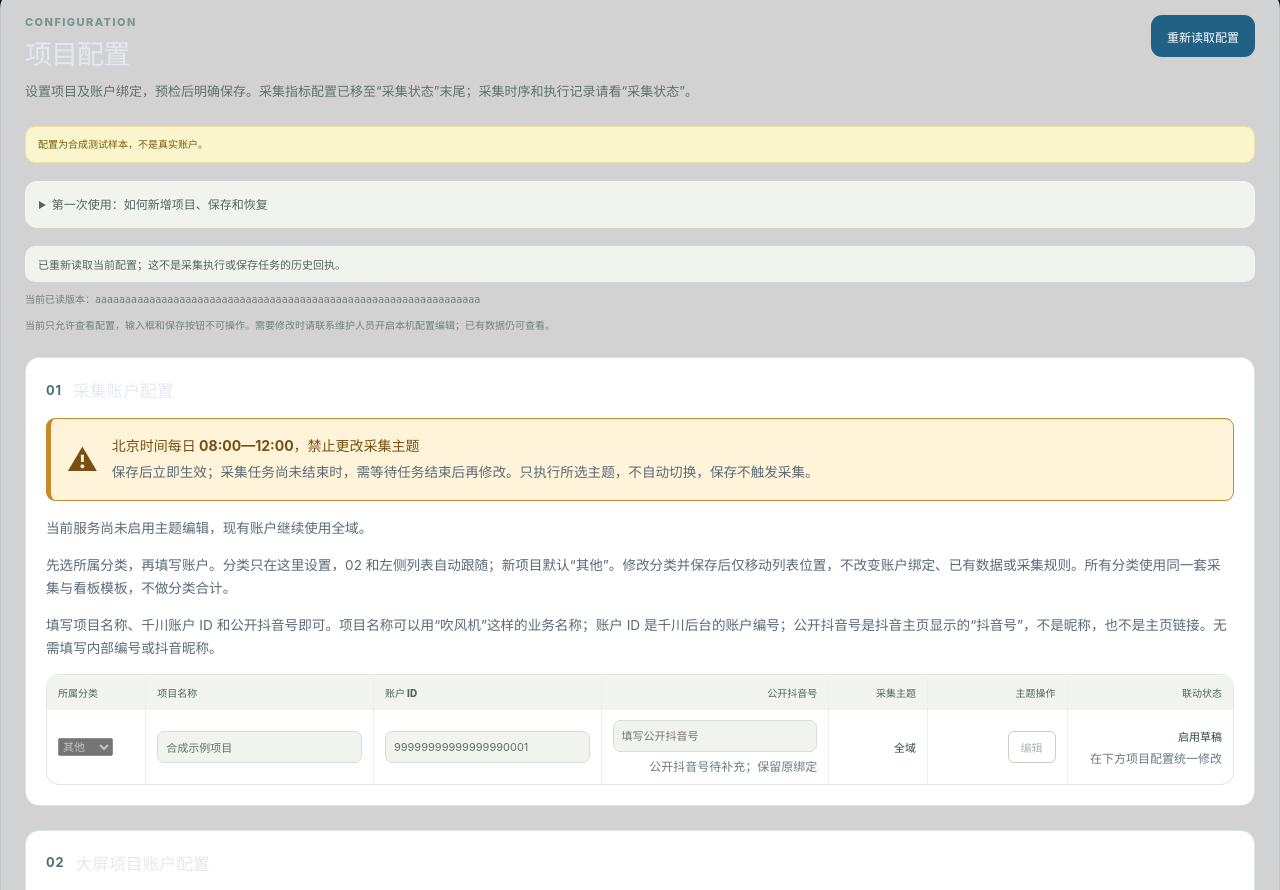
Scenario: minimal configuration panel › unlocks business configuration after the local service enables writes, without changing facts or saving on read
Click the button with class "configuration-reload". click: (1203,36)
box: [1151,15,1255,57]
(page scrolled)
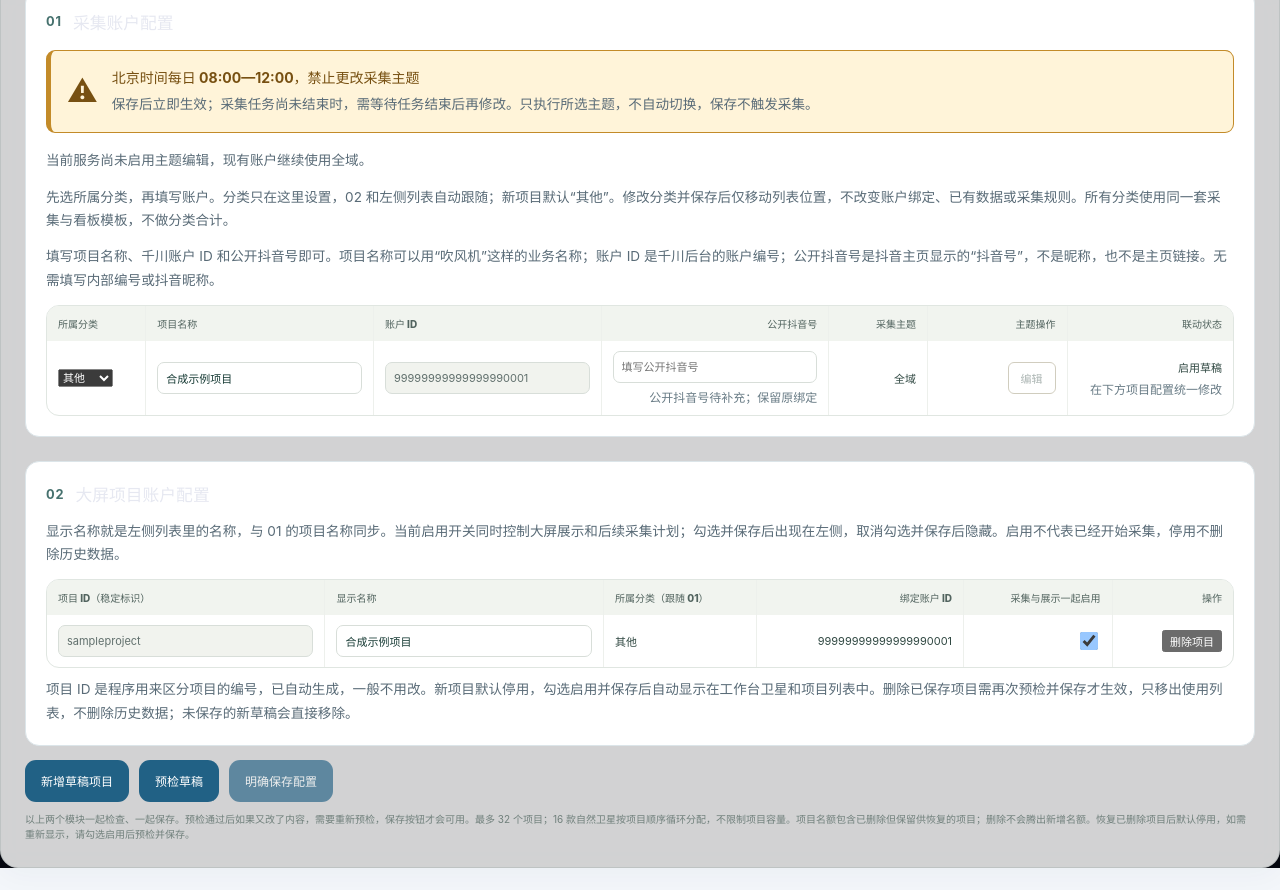
Check: the field named "项目 1 ID" is disabled, box [58,625,313,657]
Check: the button with class "configuration-add" is enabled
Check: the field named "项目 1 名称" is enabled, box [336,625,592,657]
Click the button with class "configuration-add". click: (77,781)
box: [25,760,129,802]
(page scrolled)
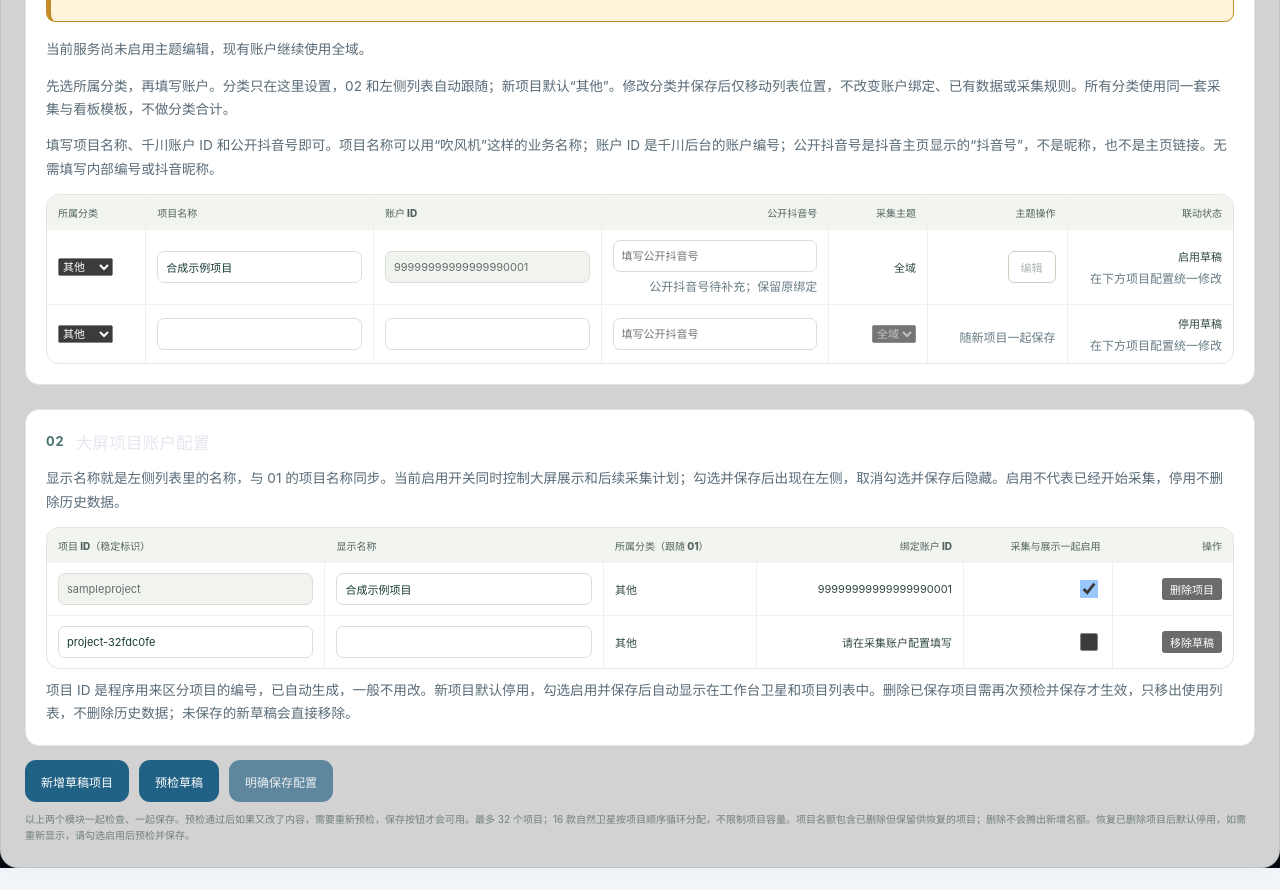
Check: the field named "项目 2 ID" is enabled, box [58,626,313,658]
Check: the field named "项目 2 账户 ID" is enabled, box [385,318,590,350]
Check: the checkbox named "项目 2 启用" is not checked, box [1080,633,1098,651]
